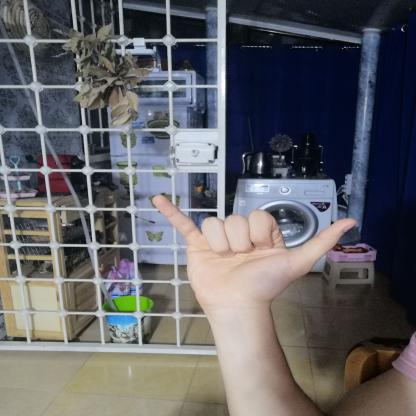YA: (142, 180, 375, 319)
